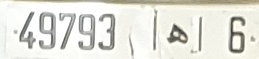3: (98, 12, 116, 51)
4: (18, 10, 37, 50)
6: (228, 14, 246, 54)
7: (58, 11, 76, 51)
9: (38, 12, 56, 50), (78, 12, 96, 50)
h: (166, 21, 188, 45)
